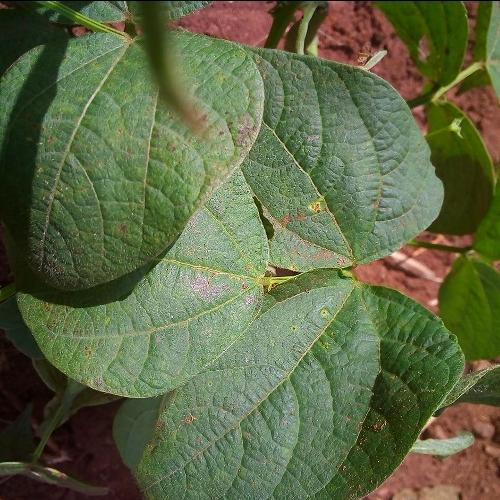hawar: (260, 186, 350, 266), (176, 224, 244, 319)
